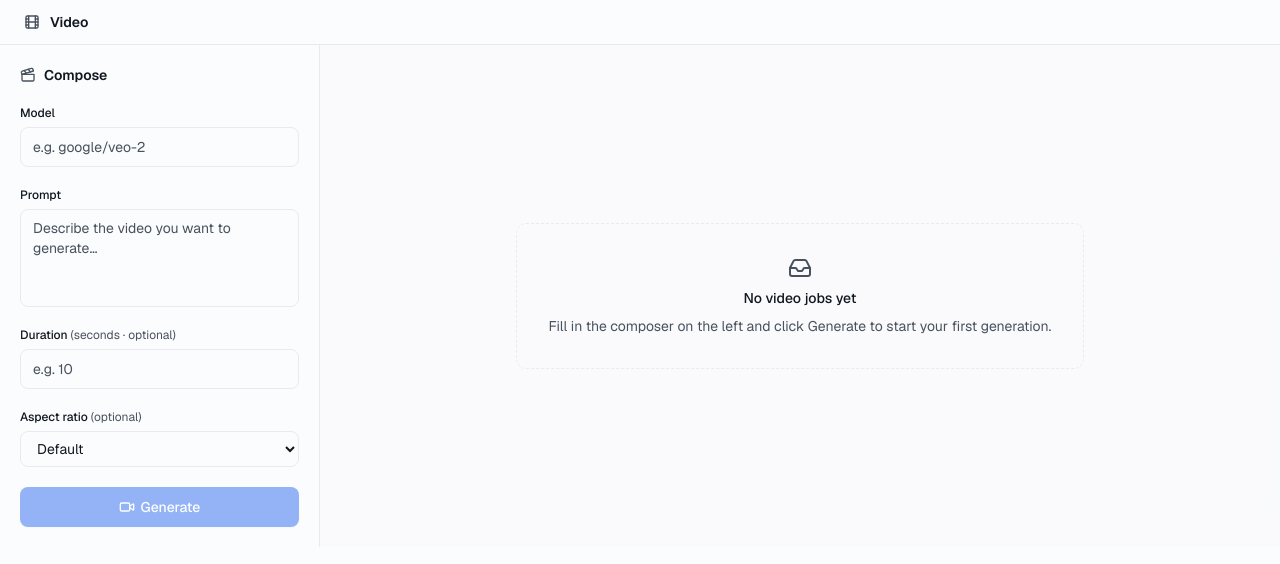
Test case: VideoWorkspace › submit_creates_job
Type "google/veo-2" into the field labelled "Model".
click(160, 147); type("google/veo-2")  # box x1=20 y1=127 x2=299 y2=167
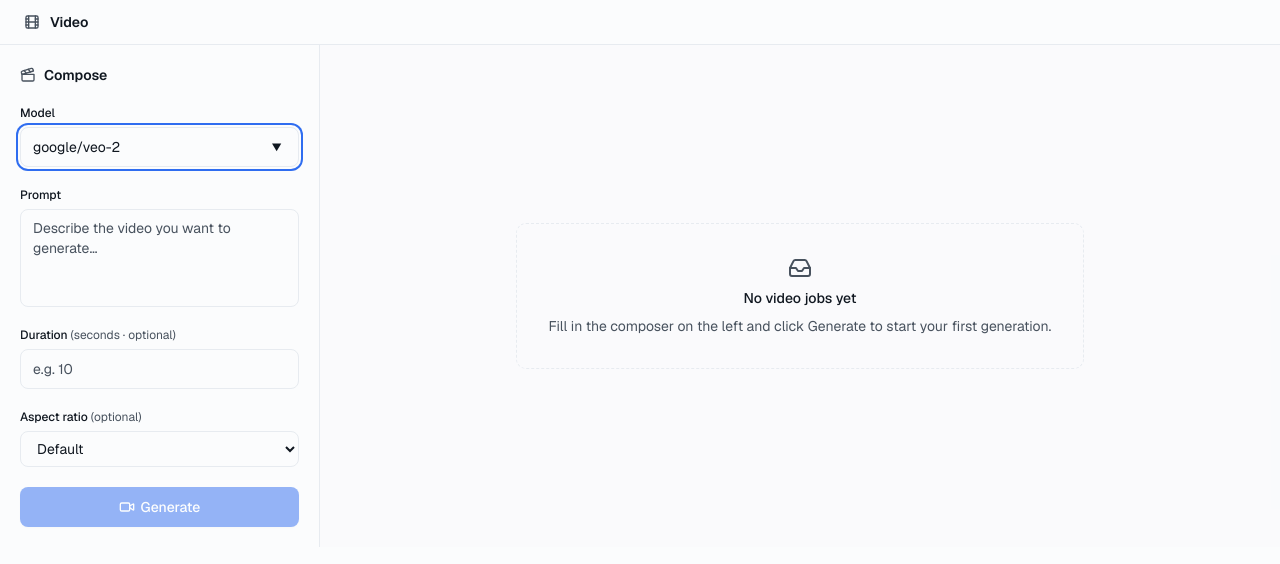
Type "A cat chasing a laser pointer" into the text box labelled "Prompt".
click(160, 258); type("A cat chasing a laser pointer")  # box x1=20 y1=209 x2=299 y2=307
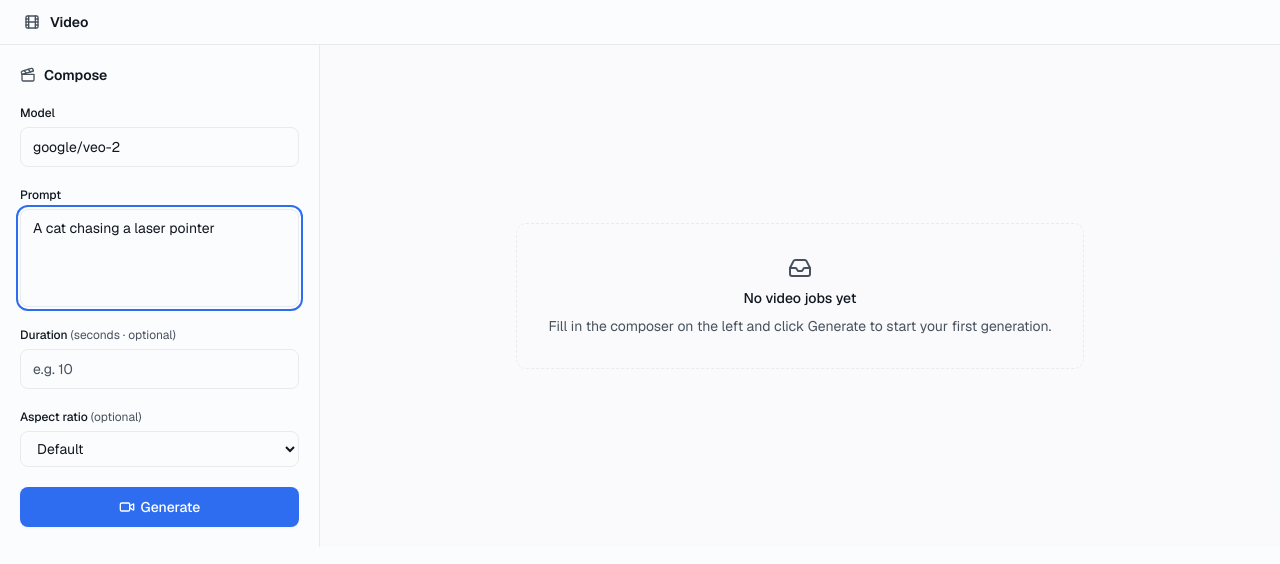
Expected: the button "Generate" is enabled
Click the button "Generate".
click(160, 507)  # box x1=20 y1=487 x2=299 y2=527
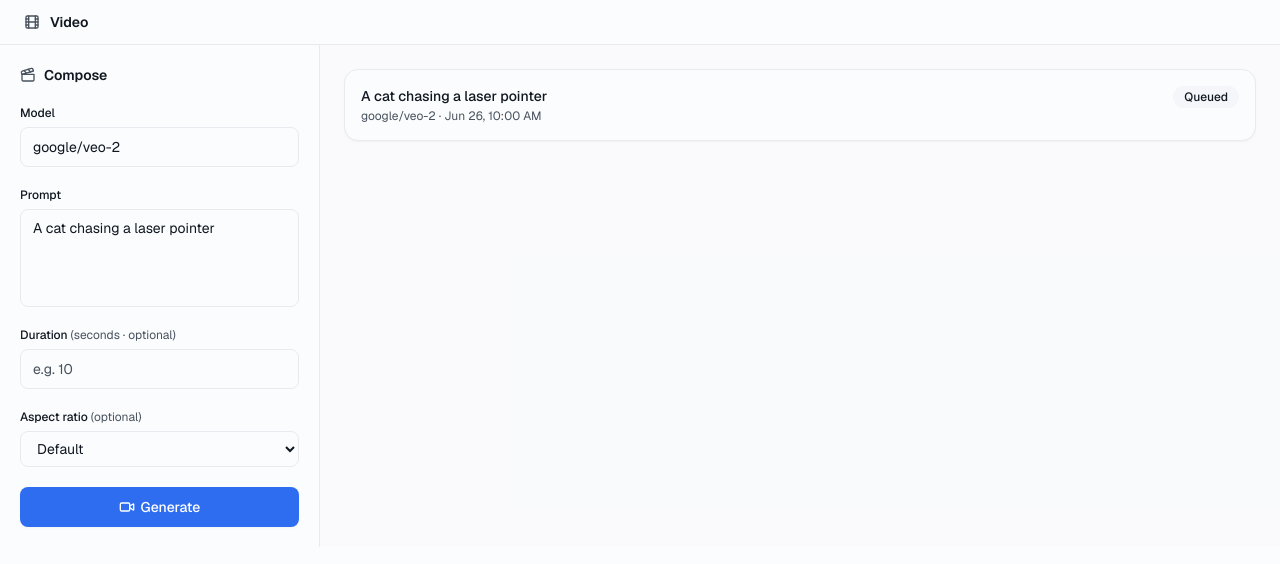
Expected: the text "queued" is shown, x1=1173 y1=86 x2=1239 y2=108
